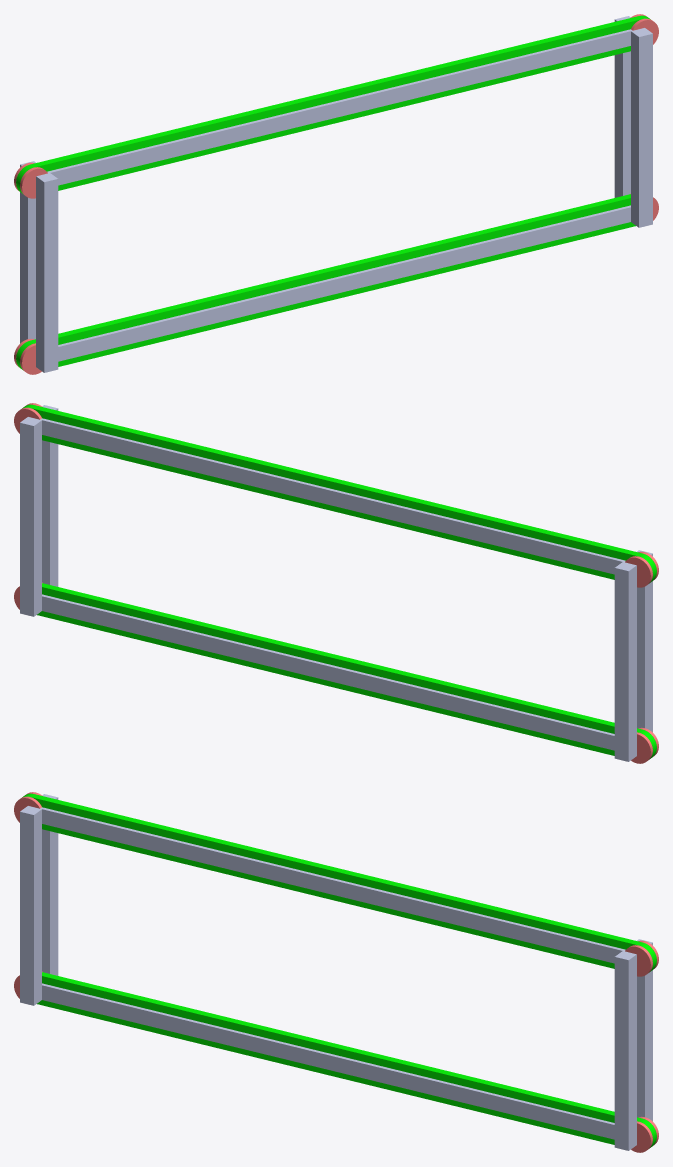
File: completeframe.obj
The picture shows the model from 3 angles, top to bottom: view 1: azimuth 30°, elevation 25°; view 2: azimuth 150°, elevation 25°; view 3: azimuth 330°, elevation 25°; orthographic projection.
Visible parts, largest first — view 1: |FrameWithChain|Root|color, |FrameWithChain|Root|color-3, |FrameWithChain|Root|color-2; view 2: |FrameWithChain|Root|color, |FrameWithChain|Root|color-3, |FrameWithChain|Root|color-2; view 3: |FrameWithChain|Root|color, |FrameWithChain|Root|color-3, |FrameWithChain|Root|color-2.
Boxes of the visible parts, left/top/right/bottom form: |FrameWithChain|Root|color: left=20, top=16, right=652, bottom=372; |FrameWithChain|Root|color-3: left=16, top=15, right=650, bottom=370; |FrameWithChain|Root|color-2: left=14, top=14, right=658, bottom=374; |FrameWithChain|Root|color: left=20, top=405, right=652, bottom=761; |FrameWithChain|Root|color-3: left=22, top=404, right=656, bottom=759; |FrameWithChain|Root|color-2: left=14, top=403, right=658, bottom=763; |FrameWithChain|Root|color: left=20, top=794, right=652, bottom=1150; |FrameWithChain|Root|color-3: left=22, top=793, right=656, bottom=1148; |FrameWithChain|Root|color-2: left=14, top=792, right=658, bottom=1152.
Bounding box in the file's own units: 2.27 × 0.7 × 0.15.
